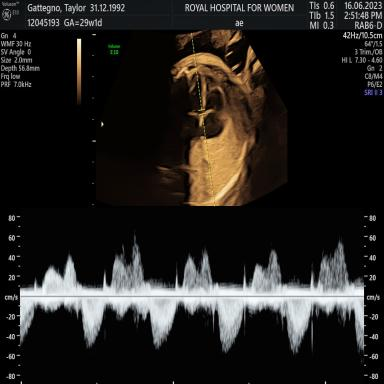Ultrasound-Waves: (23, 215, 363, 384)
